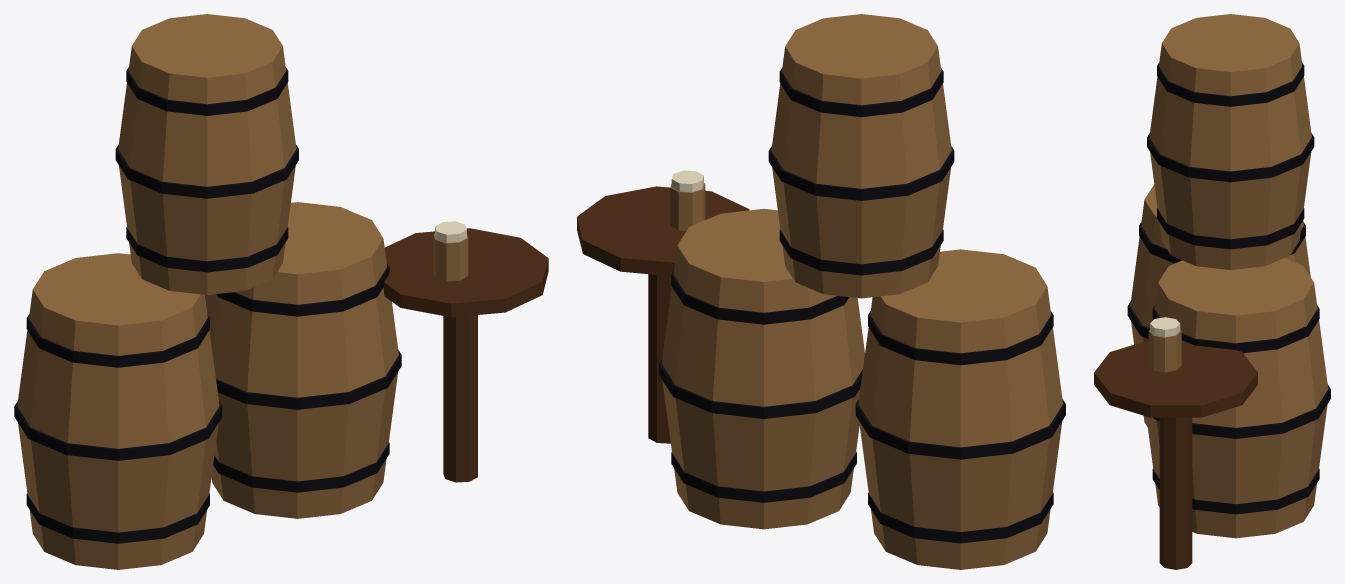
File: shop_tavern_yard.gltf
3 renders of one model, left to right at view 1: azimuth 30°, elevation 25°; view 2: azimuth 150°, elevation 25°; view 3: azimuth 270°, elevation 25°, orthographic. The views are drawn at different scales.
Parts seen in each view (by area): view 1: ShopTavernYardShopWoodLight, ShopTavernYardShopIron, ShopTavernYardShopWood; view 2: ShopTavernYardShopWoodLight, ShopTavernYardShopIron, ShopTavernYardShopWood, ShopTavernYardShopCream; view 3: ShopTavernYardShopWoodLight, ShopTavernYardShopWood, ShopTavernYardShopIron, ShopTavernYardShopCream.
Boxes of the visible parts, x1,y1,x2,y2 form: ShopTavernYardShopWoodLight: [17, 14, 468, 569]; ShopTavernYardShopIron: [14, 67, 401, 543]; ShopTavernYardShopWood: [383, 228, 548, 482]; ShopTavernYardShopWoodLight: [661, 14, 1062, 569]; ShopTavernYardShopIron: [659, 68, 1065, 543]; ShopTavernYardShopWood: [577, 186, 749, 443]; ShopTavernYardShopCream: [671, 170, 703, 192]; ShopTavernYardShopWoodLight: [1130, 14, 1328, 538]; ShopTavernYardShopWood: [1094, 340, 1257, 569]; ShopTavernYardShopIron: [1127, 62, 1330, 514]; ShopTavernYardShopCream: [1150, 317, 1180, 337].
Size of what is drawn, in the model's own units: 1.85 by 1.7 by 0.8668.
